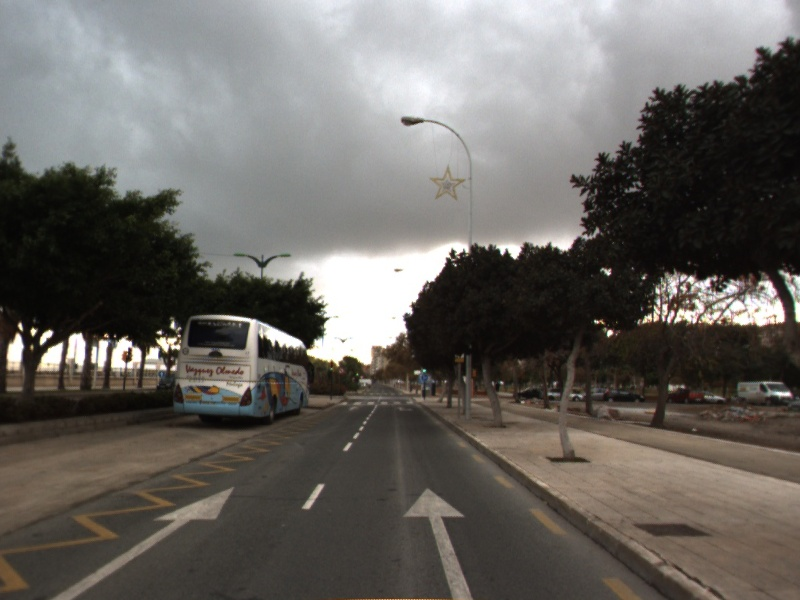STRAIGHT: (41, 484, 238, 600), (401, 485, 477, 600)
